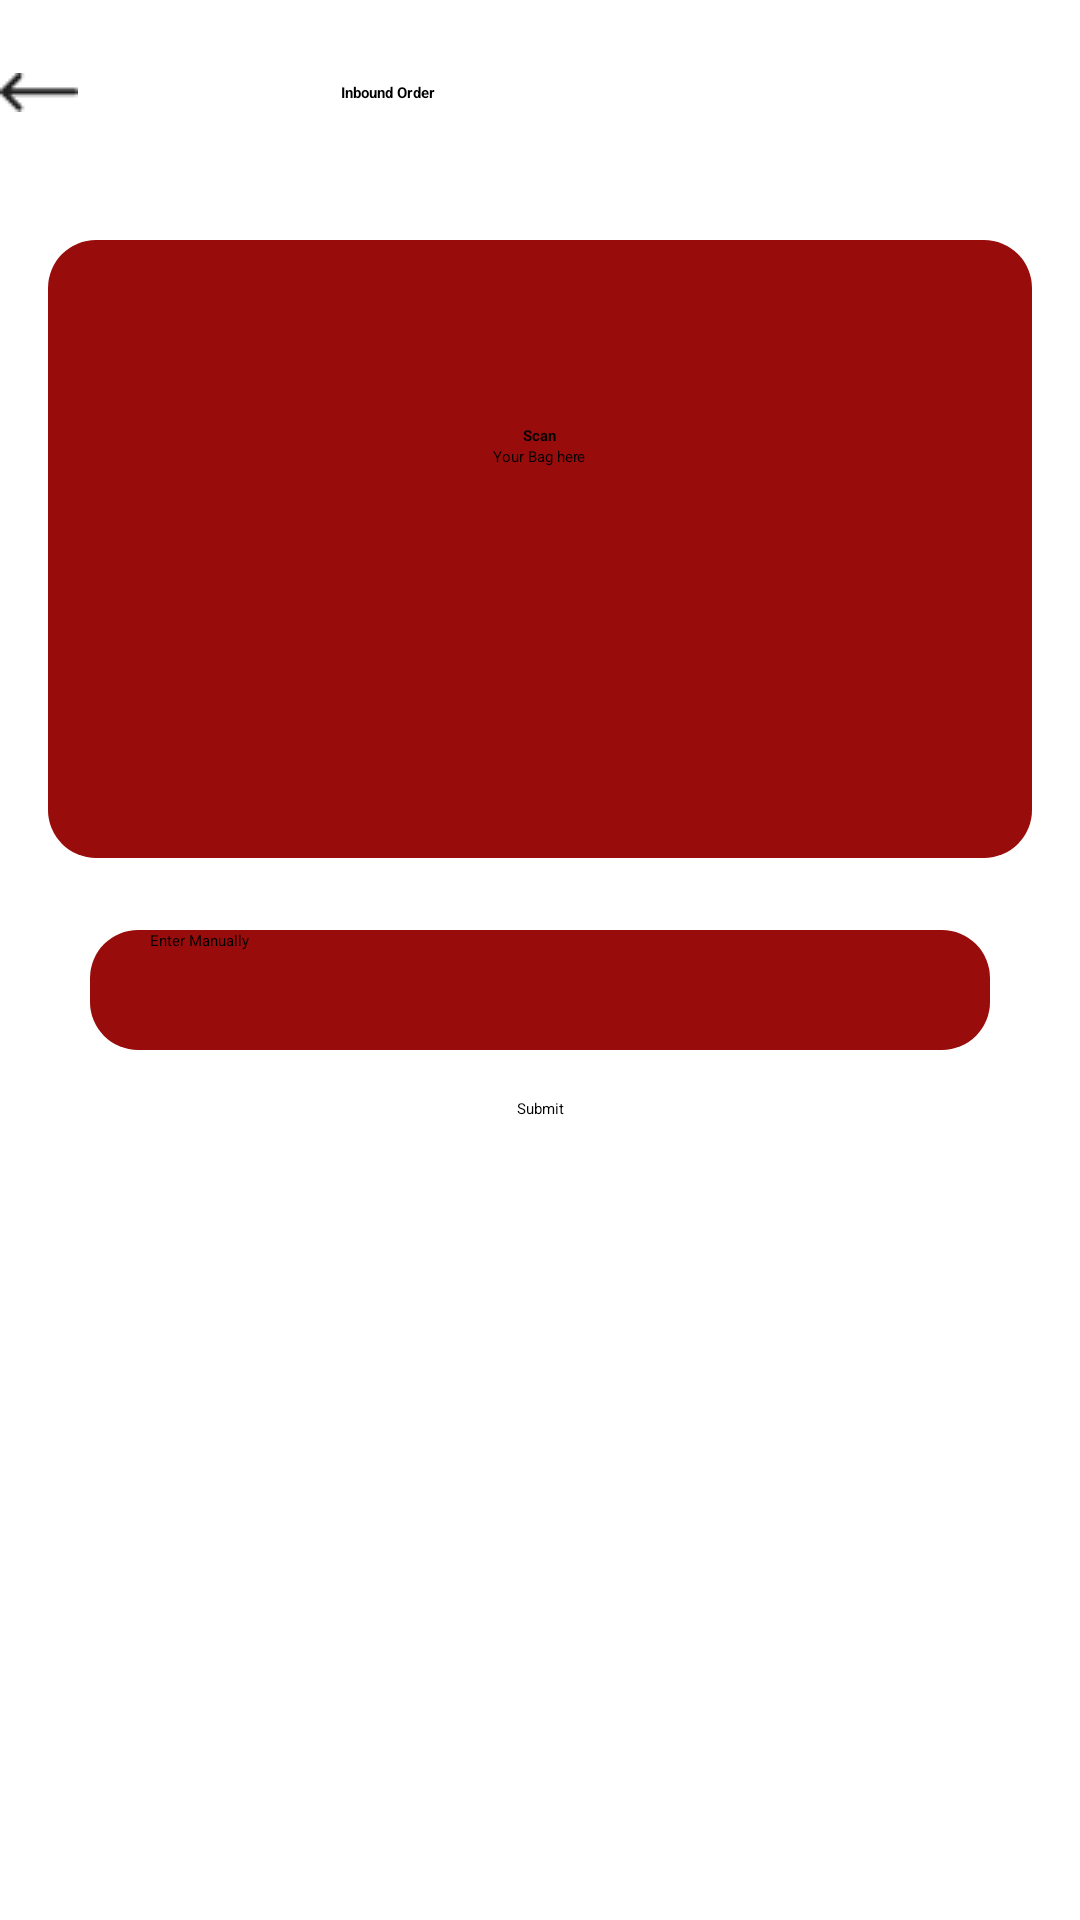

Icons on this 1080×1920 Android screen, each with the point to tap as point (x, y):
backicon: point (39, 92)
